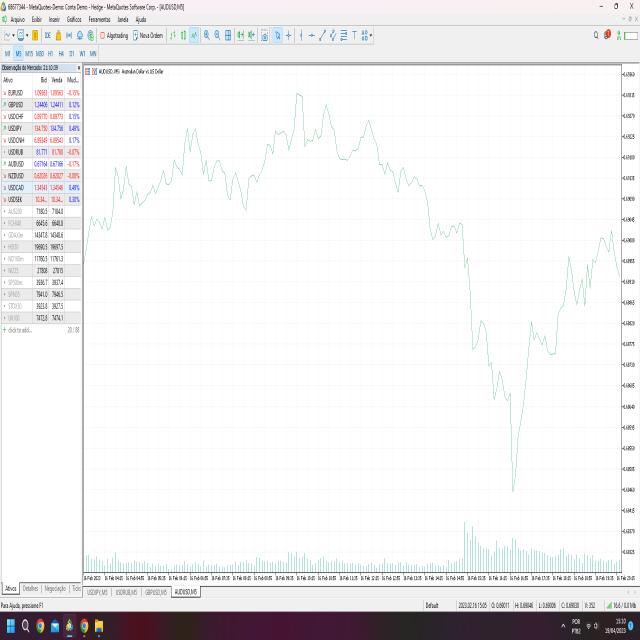bandeira_baixa: (415, 168, 464, 247)
topo_duplo: (177, 120, 207, 179)
